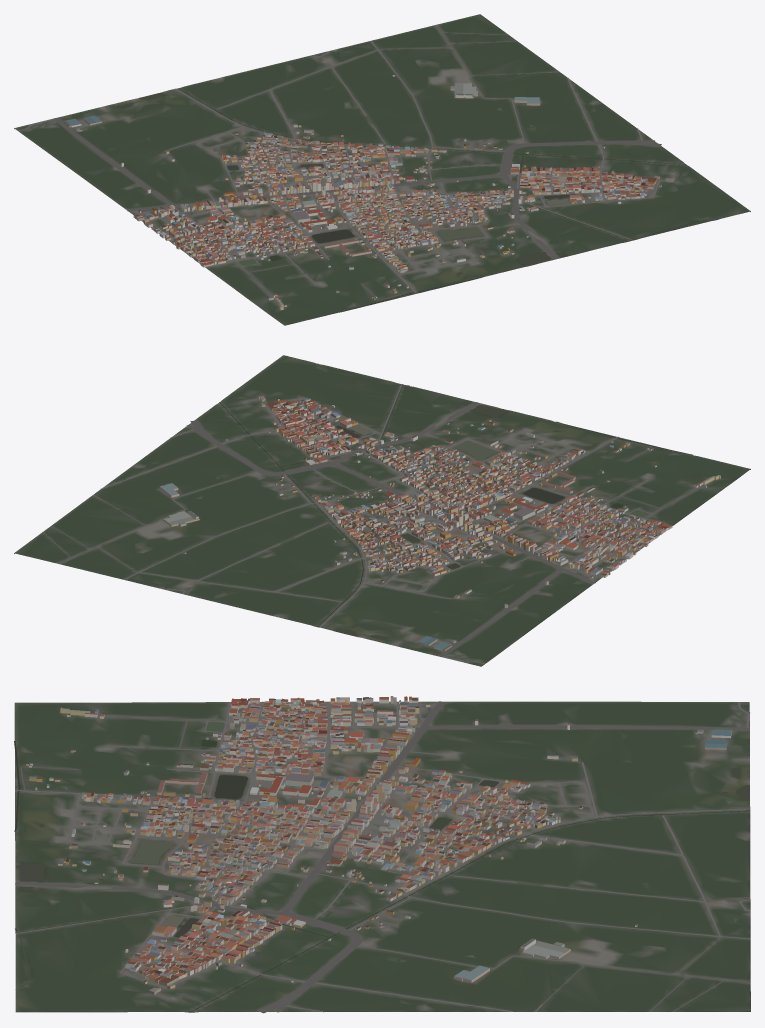
3 renders of one model, top to bottom at view 1: azimuth 30°, elevation 25°; view 2: azimuth 150°, elevation 25°; view 3: azimuth 270°, elevation 25°, orthographic. The views are drawn at different scales.
Parts seen in each view (by area): view 1: ground, buildings, roads, water; view 2: ground, buildings, roads, water; view 3: ground, buildings, roads, water.
Part boxes in pixels (x1,y1,x2,y2): ground: (14, 14, 750, 325); buildings: (63, 74, 674, 310); roads: (18, 24, 661, 309); water: (116, 88, 716, 311); ground: (14, 355, 750, 666); buildings: (159, 396, 720, 651); roads: (42, 384, 720, 663); water: (219, 363, 692, 640); ground: (14, 701, 750, 1012); buildings: (26, 696, 732, 994); roads: (15, 701, 750, 1013); water: (14, 722, 749, 1012).
Bounding box in the file's own units: 1415 × 31.43 × 1405.
